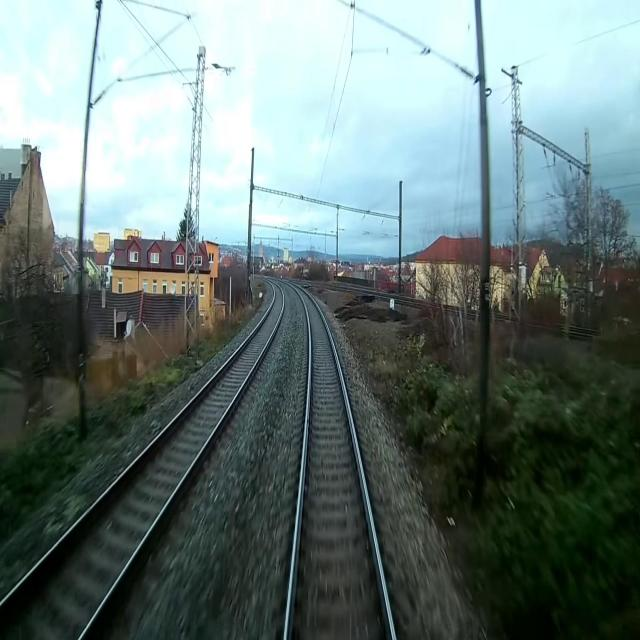rail-track: (0, 282, 283, 639), (288, 286, 391, 639)
